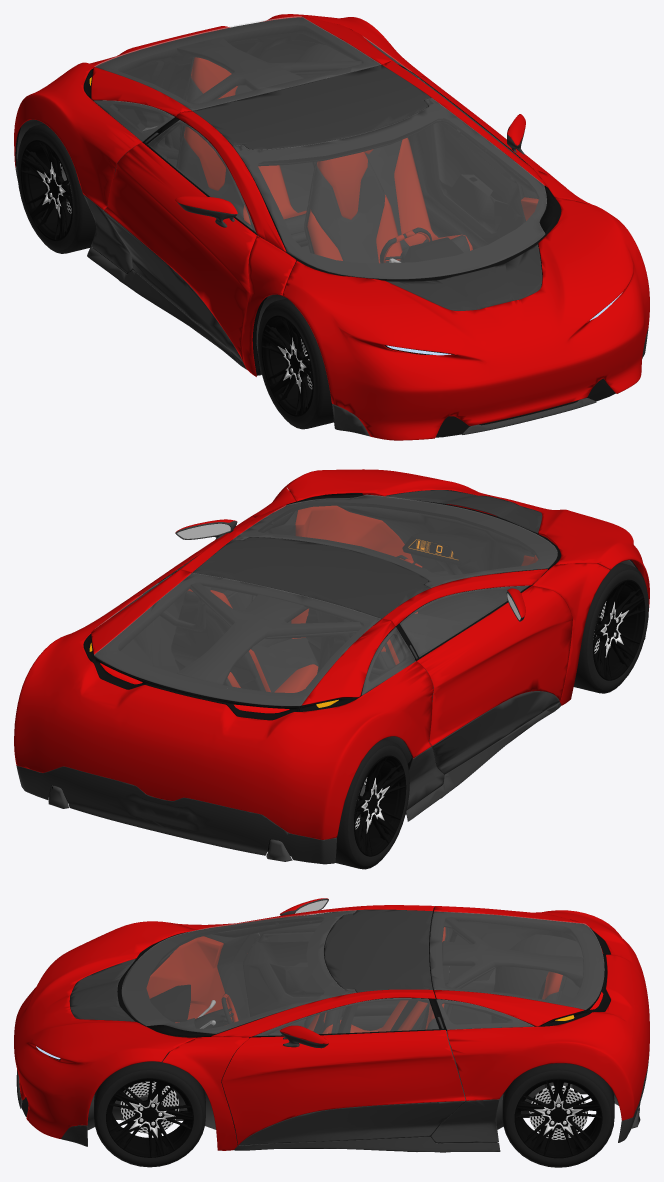
File: concept.glb
The picture shows the model from 3 angles, top to bottom: view 1: azimuth 30°, elevation 25°; view 2: azimuth 150°, elevation 25°; view 3: azimuth 270°, elevation 25°; orthographic projection. The views are drawn at different scales.
Parts seen in each view (by area): view 1: object 11, object 2, object 3, object 10, object 4, object 5, object 7, WheelFrontRRim, WheelRearRRim, WheelFrontRTire2, WheelRearRTire2, object 6 (+2 smaller); view 2: object 11, object 2, object 10, object 3, object 4, object 5, WheelFrontRRim, WheelRearRRim, WheelRearRTire2, WheelFrontRTire2, object 7, object 8 (+3 smaller); view 3: object 11, object 2, object 10, object 3, object 4, object 5, WheelRearLRim, WheelFrontLRim, WheelFrontLTire2, WheelRearLTire2, object 6, object 1 (+4 smaller).
Boxes of the visible parts, left/top/right/bottom form: object 11: left=14, top=14, right=649, bottom=440; object 2: left=94, top=16, right=546, bottom=278; object 3: left=16, top=17, right=615, bottom=437; object 10: left=15, top=65, right=648, bottom=436; object 4: left=15, top=33, right=524, bottom=354; object 5: left=184, top=57, right=538, bottom=354; object 7: left=179, top=78, right=469, bottom=263; WheelFrontRRim: left=261, top=315, right=313, bottom=416; WheelRearRRim: left=20, top=140, right=72, bottom=240; WheelFrontRTire2: left=257, top=298, right=333, bottom=429; WheelRearRTire2: left=17, top=123, right=95, bottom=253; object 6: left=92, top=173, right=543, bottom=374; object 11: left=14, top=469, right=649, bottom=839; object 2: left=94, top=495, right=557, bottom=705; object 10: left=16, top=490, right=645, bottom=864; object 3: left=84, top=493, right=637, bottom=756; object 4: left=49, top=501, right=538, bottom=856; object 5: left=187, top=496, right=538, bottom=692; WheelFrontRRim: left=593, top=579, right=645, bottom=680; WheelRearRRim: left=354, top=755, right=406, bottom=856; WheelRearRTire2: left=335, top=739, right=409, bottom=869; WheelFrontRTire2: left=573, top=563, right=648, bottom=693; object 7: left=251, top=629, right=445, bottom=692; object 8: left=402, top=532, right=470, bottom=566; object 11: left=14, top=898, right=649, bottom=1150; object 2: left=122, top=910, right=604, bottom=1035; object 10: left=16, top=898, right=649, bottom=1152; object 3: left=19, top=907, right=610, bottom=1148; object 4: left=117, top=914, right=638, bottom=1110; object 5: left=146, top=927, right=562, bottom=1033; WheelRearLRim: left=514, top=1078, right=602, bottom=1158; WheelFrontLRim: left=106, top=1078, right=193, bottom=1157; WheelFrontLTire2: left=94, top=1059, right=205, bottom=1167; WheelRearLTire2: left=502, top=1063, right=614, bottom=1167; object 6: left=204, top=927, right=497, bottom=1148; object 1: left=87, top=932, right=640, bottom=1129.
Bounding box in the file's own units: 2.34 × 1.15 × 4.36.
20 materials, 2 textured.
